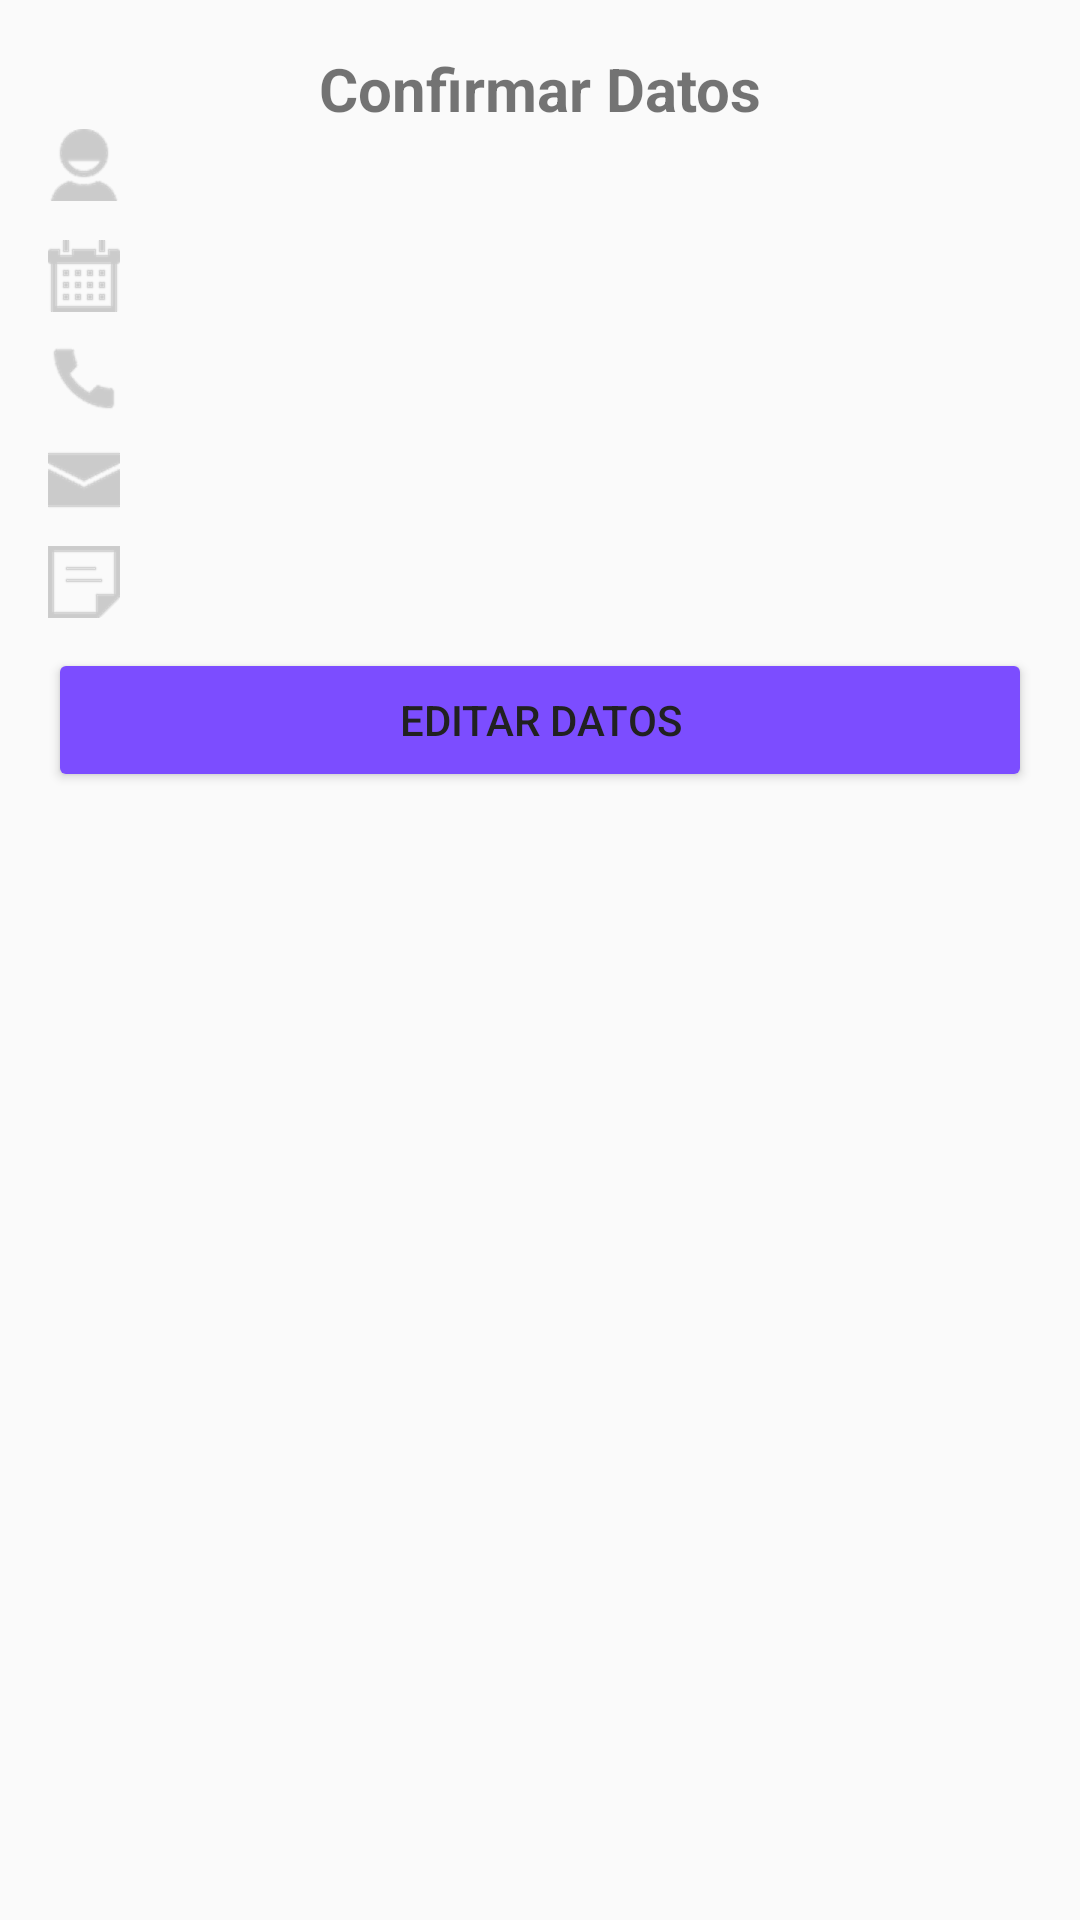

Named icons in this screenshot (1080x1920) and their bounding boxes, (x1,y1,x2,y2):
calendar: (48,240,120,312)
envelope: (48,453,120,507)
note: (48,546,120,618)
phone: (54,349,114,408)
user: (51,129,117,201)
